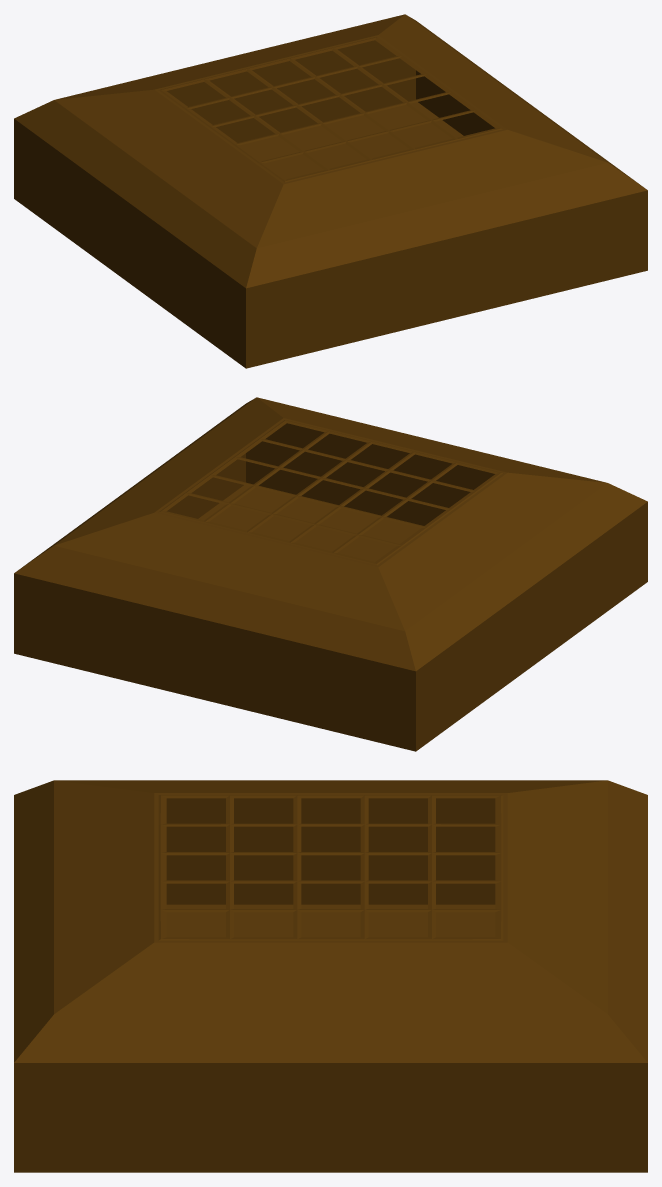
The model's file is Ground_vent.fbx.
The picture shows the model from 3 angles, top to bottom: view 1: azimuth 30°, elevation 25°; view 2: azimuth 150°, elevation 25°; view 3: azimuth 270°, elevation 25°; orthographic projection. The views are drawn at different scales.
Parts seen in each view (by area): view 1: Ground.Vent; view 2: Ground.Vent; view 3: Ground.Vent.
Part boxes in pixels (x1=…): Ground.Vent: x1=14, y1=14, x2=647, y2=368; Ground.Vent: x1=14, y1=397, x2=647, y2=751; Ground.Vent: x1=14, y1=780, x2=647, y2=1172.
Bounding box in the file's own units: 47.18 × 14.08 × 47.18.
